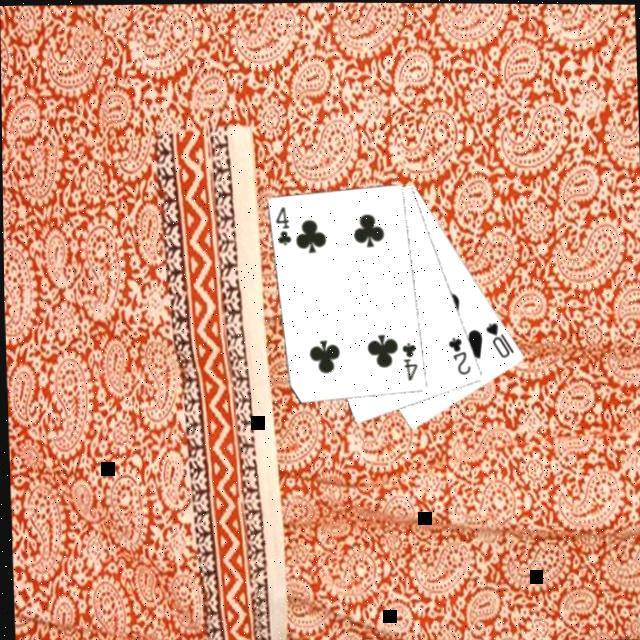10S: (483, 320, 518, 362)
2C: (444, 334, 474, 378)
4C: (272, 204, 296, 250), (398, 340, 422, 384)
